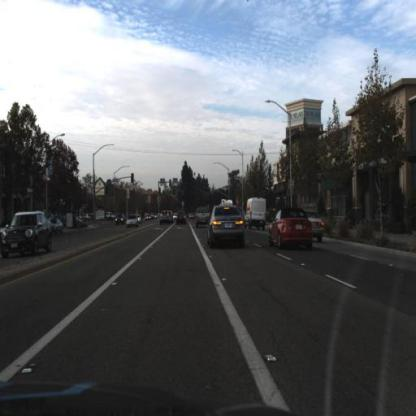car: (3, 212, 55, 259), (268, 208, 312, 252), (209, 205, 248, 250), (244, 195, 269, 234), (300, 211, 324, 243), (197, 206, 215, 228), (159, 205, 174, 229), (175, 205, 189, 228), (53, 214, 67, 236), (50, 217, 64, 238), (124, 214, 142, 230), (126, 214, 140, 230)
truck: (245, 197, 267, 231)
